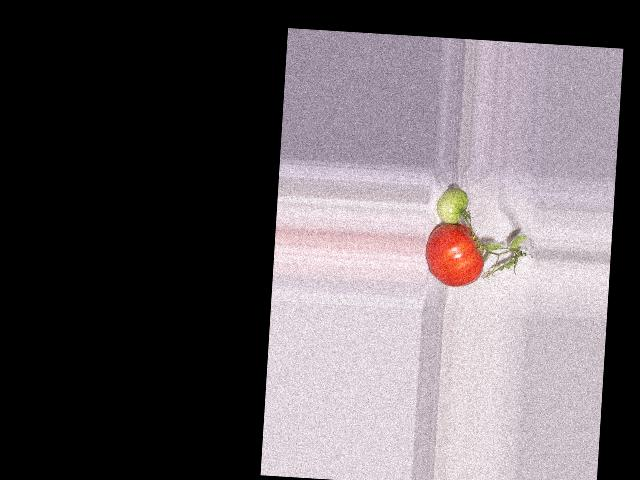tomato: (424, 221, 486, 288)
